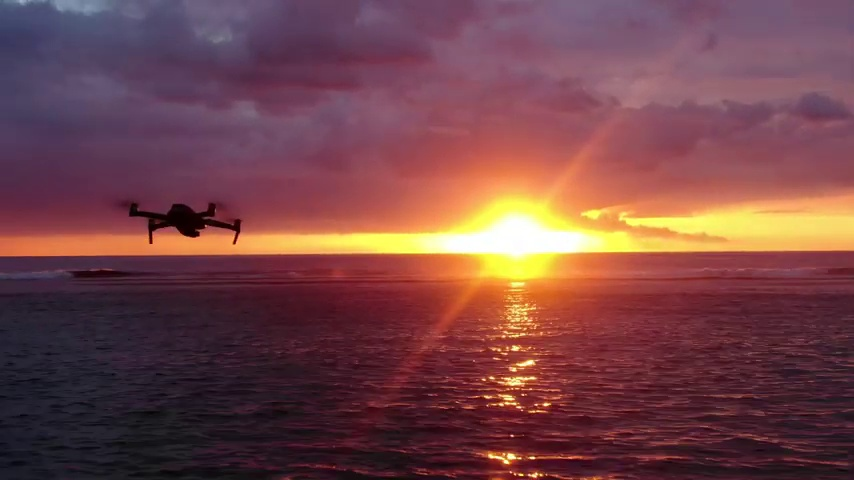drone: (127, 199, 241, 246)
